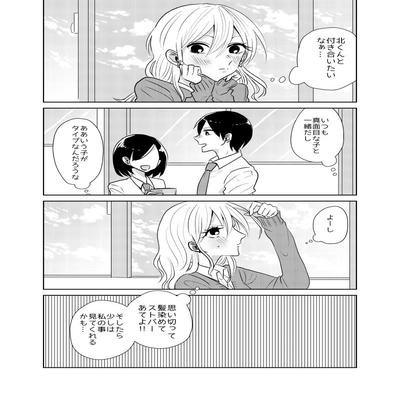bubble: (70, 294, 192, 356), (287, 27, 356, 89), (51, 119, 102, 190), (291, 108, 342, 168), (313, 208, 347, 242)
